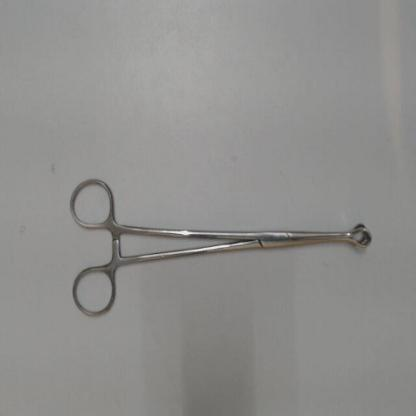8 Babcock Tissue Forceps: (67, 167, 374, 321)
